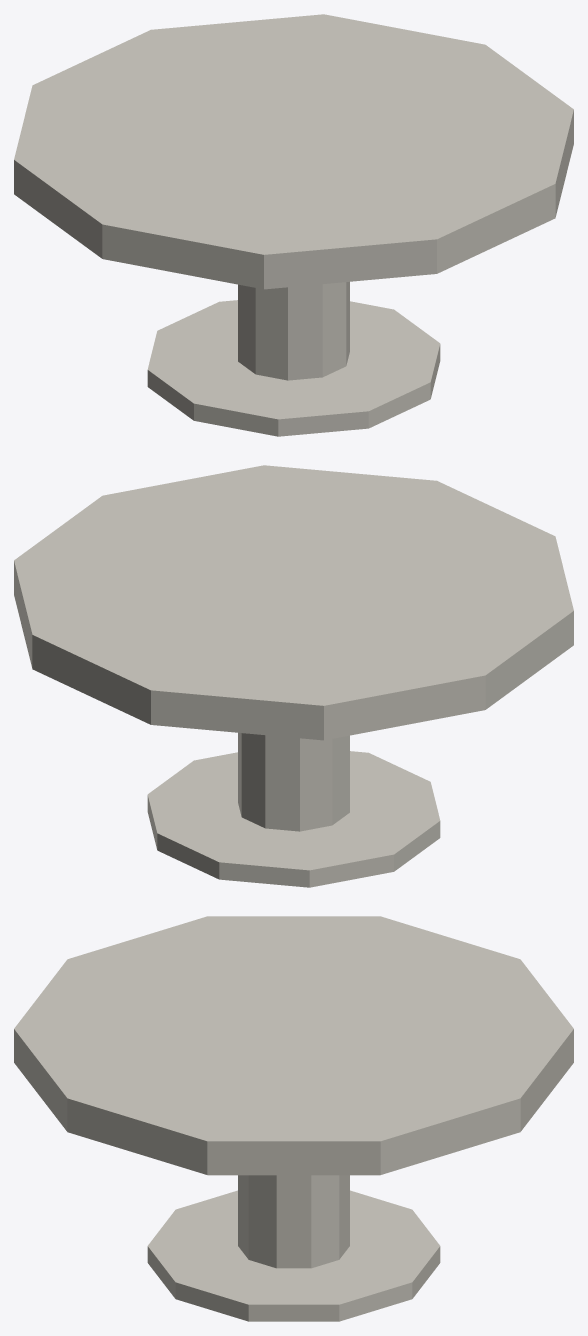
The model's file is white_round_table.fbx.
3 views of the same model, one above another, from view 1: azimuth 30°, elevation 25°; view 2: azimuth 150°, elevation 25°; view 3: azimuth 270°, elevation 25° (orthographic). The views are drawn at different scales.
Parts seen in each view (by area): view 1: Cylinder; view 2: Cylinder; view 3: Cylinder.
Boxes of the visible parts, left/top/right/bottom form: Cylinder: left=14, top=14, right=573, bottom=436; Cylinder: left=14, top=465, right=573, bottom=887; Cylinder: left=14, top=916, right=573, bottom=1321.
Size of the model in its own units: 5.71 by 2.77 by 6.
